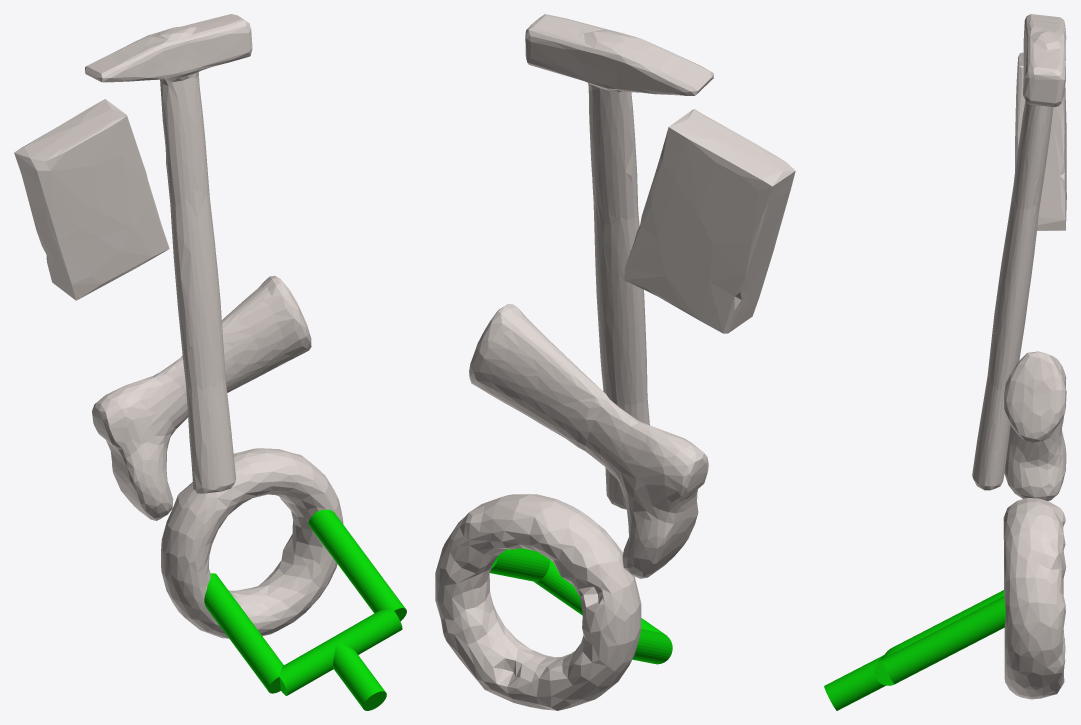
The model's file is round_000_trial_001.obj.
The picture shows the model from 3 angles, left to right: view 1: azimuth 30°, elevation 25°; view 2: azimuth 150°, elevation 25°; view 3: azimuth 270°, elevation 25°; orthographic projection. The views are drawn at different scales.
Parts seen in each view (by area): view 1: geometry_0, geometry_1; view 2: geometry_0, geometry_1; view 3: geometry_0, geometry_1.
Boxes of the visible parts, box(x1,y1,x2,y2) form: geometry_0: box(14, 14, 343, 638); geometry_1: box(204, 509, 406, 710); geometry_0: box(435, 14, 795, 710); geometry_1: box(490, 548, 672, 664); geometry_0: box(972, 14, 1066, 699); geometry_1: box(824, 590, 1005, 710).
Size of the model in its own units: 0.127 by 0.2452 by 0.0859.
